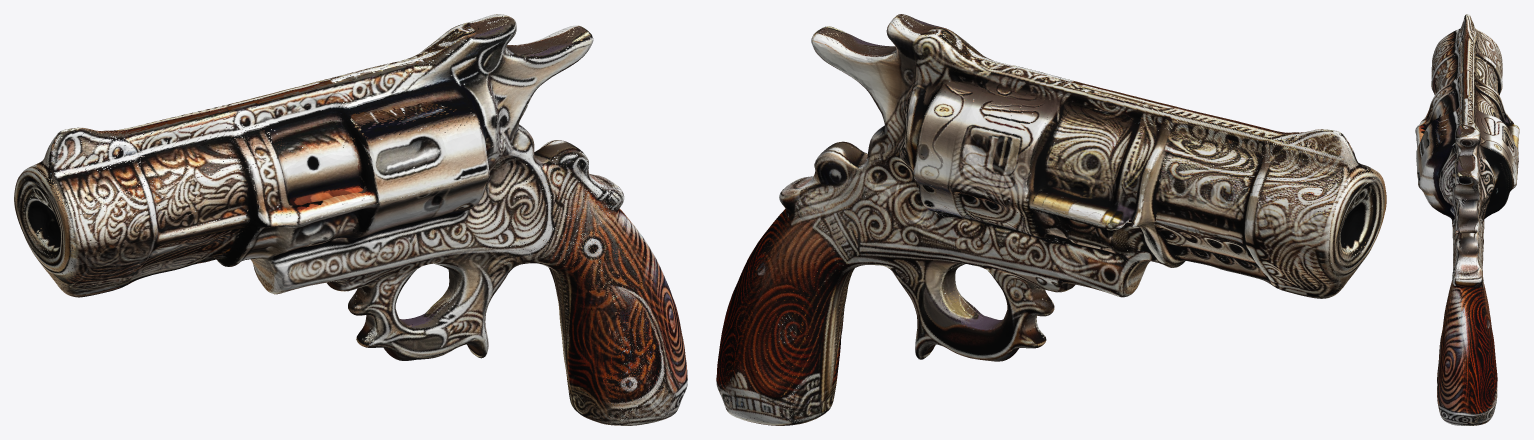
Rendered from textured_image.glb.
3 views of the same model, side by side, from view 1: azimuth 30°, elevation 25°; view 2: azimuth 150°, elevation 25°; view 3: azimuth 270°, elevation 25° (orthographic). The views are drawn at different scales.
Visible parts, largest first — view 1: Node; view 2: Node; view 3: Node.
Part boxes in pixels (bbox=[...]): Node: bbox=[14, 14, 687, 425]; Node: bbox=[716, 14, 1386, 425]; Node: bbox=[1415, 14, 1519, 425].
Size of the model in its own units: 2 by 1.26 by 0.4864.
Materials: 1 (1 with a texture image).
